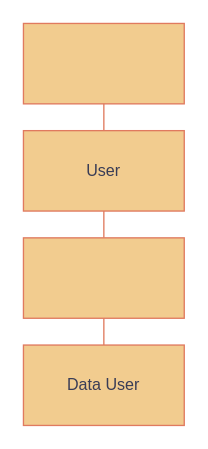
Image size: 208x449. Some labels were removed from this diagram. Here are the shapes that lost their labels. From the top down, the centre of each, then its label:
the point at 103,63: Supervisor
the point at 103,277: Add User
